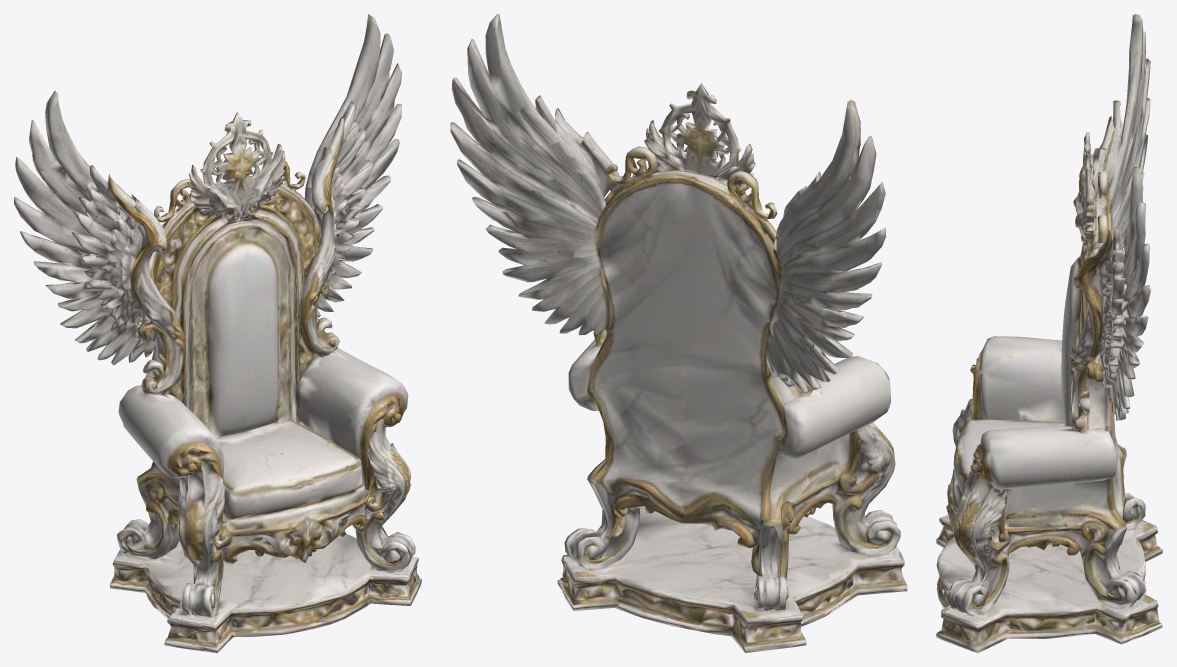
Rendered from celestialThrone.glb.
3 views of the same model, side by side, from view 1: azimuth 30°, elevation 25°; view 2: azimuth 150°, elevation 25°; view 3: azimuth 270°, elevation 25° (orthographic). The views are drawn at different scales.
Bounding box in the file's own units: 1.53 × 1.9 × 0.7805.
1 material, 1 textured.
